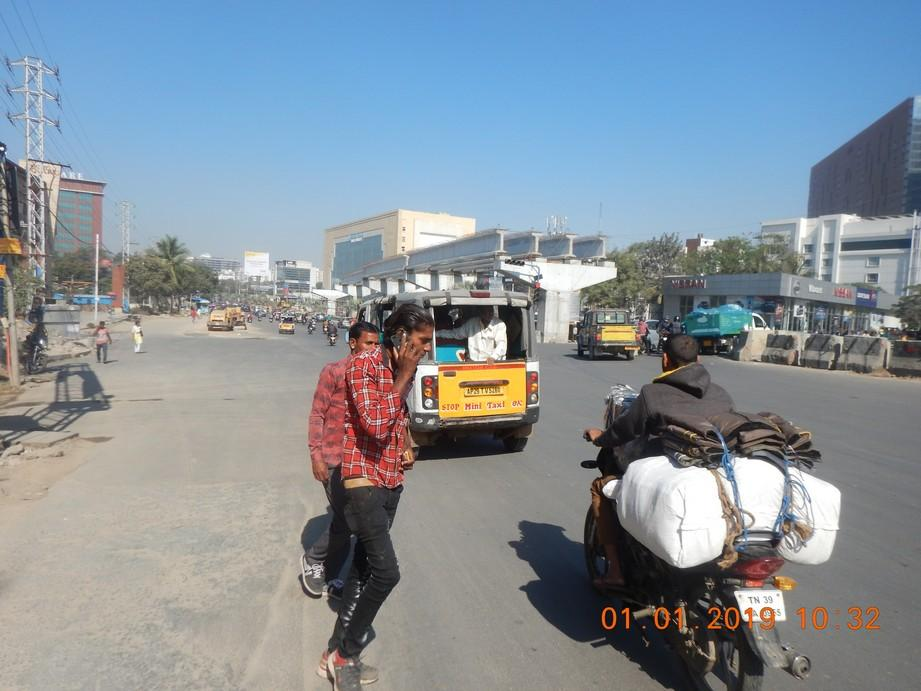plate: (735, 592, 789, 622)
